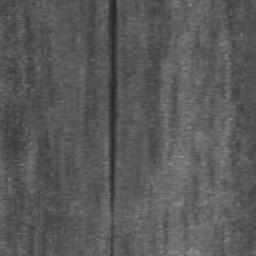Scratches: (108, 0, 118, 256)
